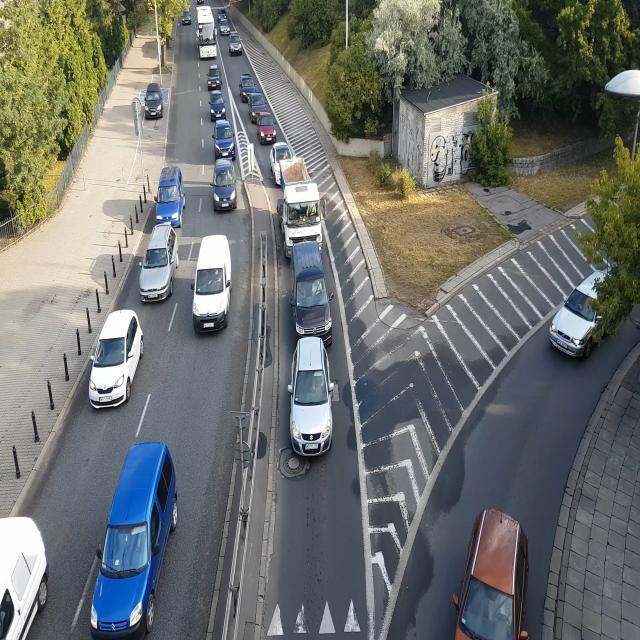bus: (195, 7, 218, 58)
car: (87, 440, 183, 639), (448, 508, 539, 640), (540, 248, 624, 364), (82, 311, 143, 416), (0, 520, 49, 640), (287, 342, 334, 466), (189, 234, 234, 338), (290, 244, 334, 338), (135, 225, 181, 301), (156, 166, 184, 223), (212, 164, 239, 214), (271, 136, 295, 174), (143, 85, 165, 120), (214, 120, 234, 157), (258, 111, 276, 147), (248, 91, 267, 121), (207, 92, 228, 119), (239, 72, 256, 98), (206, 64, 222, 90), (230, 29, 242, 52), (218, 18, 229, 34), (182, 8, 192, 23), (217, 6, 226, 19)
truck: (277, 162, 325, 255)
